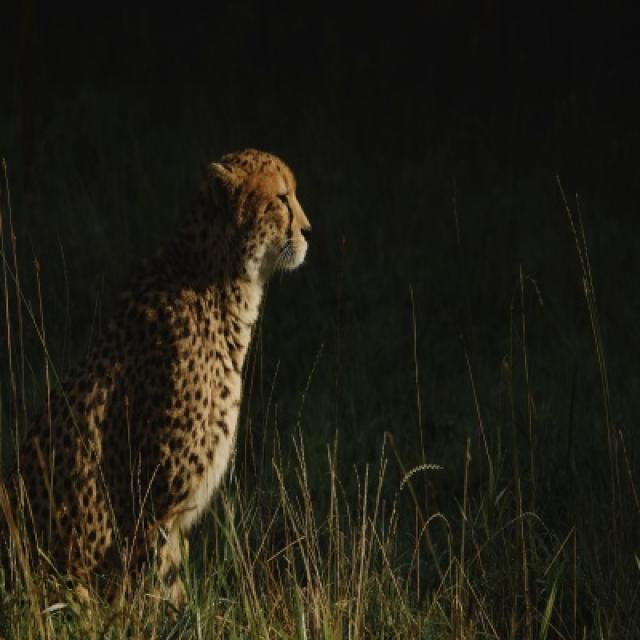Cheetah: (21, 147, 310, 597)
